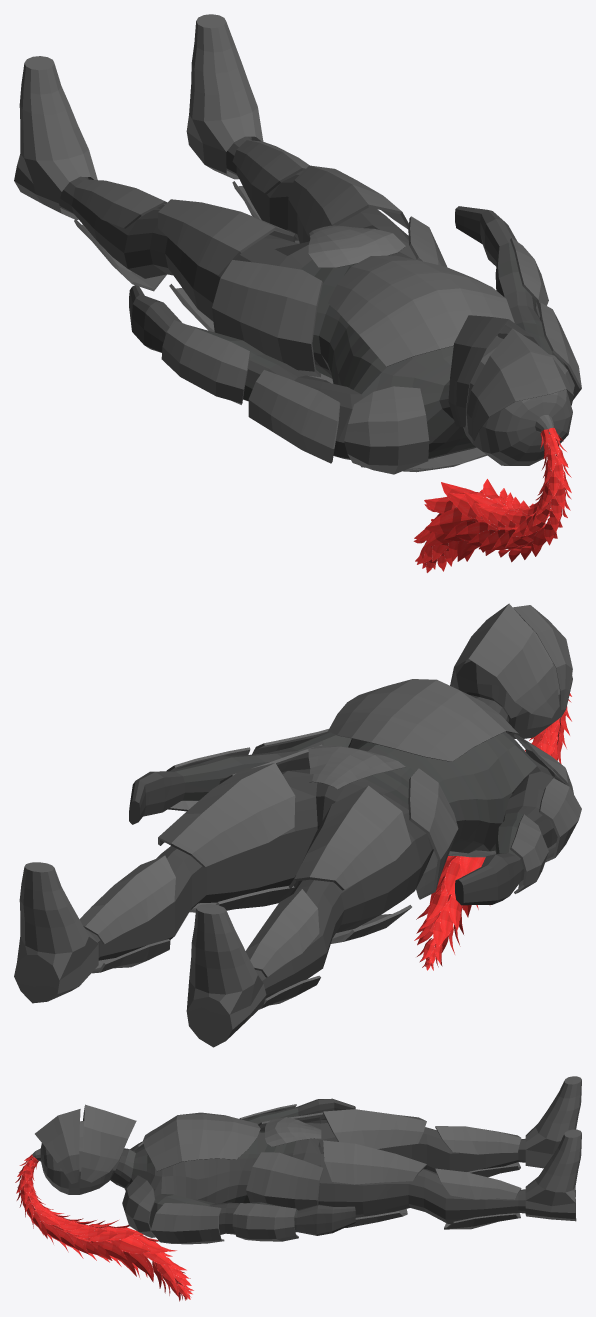
The model's file is DarkKnight.fbx.
3 views of the same model, one above another, from view 1: azimuth 30°, elevation 25°; view 2: azimuth 150°, elevation 25°; view 3: azimuth 270°, elevation 25° (orthographic). The views are drawn at different scales.
Visible parts, largest first — view 1: Circle.027; view 2: Circle.027; view 3: Circle.027.
Part boxes in pixels (<box>): Circle.027: <box>14,14,581,572</box>; Circle.027: <box>14,603,581,1047</box>; Circle.027: <box>15,1076,581,1301</box>.
Bounding box in the file's own units: 0.9312 × 0.7506 × 1.97.
2 materials, 2 textured.
